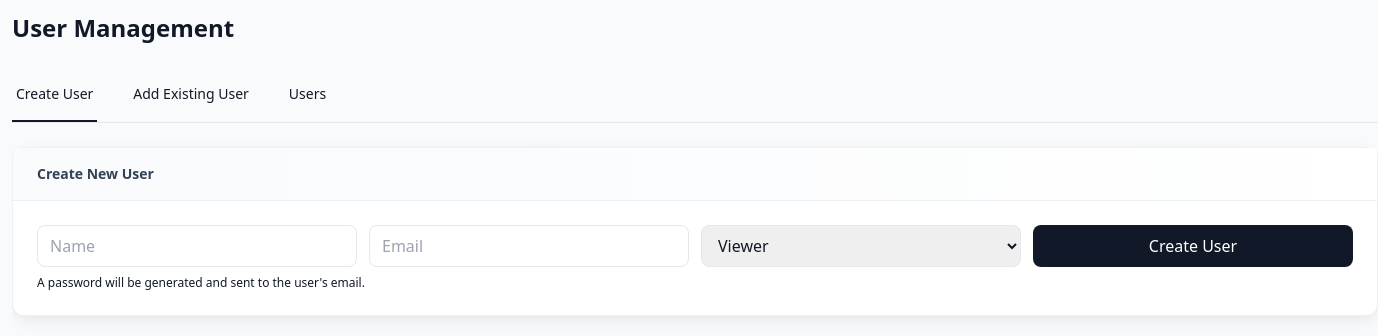
Test case: UserManagementPage › should show error state for users
This screenshot has width=1378, height=336.
Click the button "Users" at (307, 95), box [285,68,330,122]
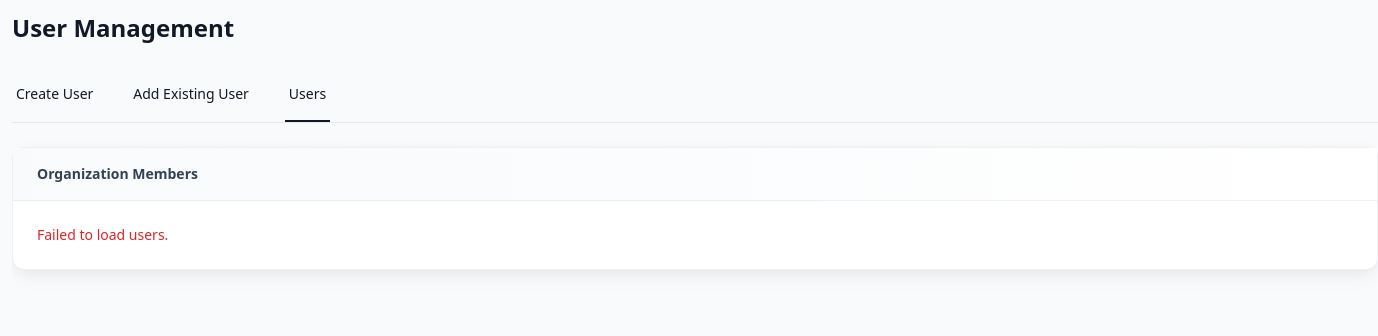
Result: the text "Failed to load users." is shown at [37,225,168,244]
